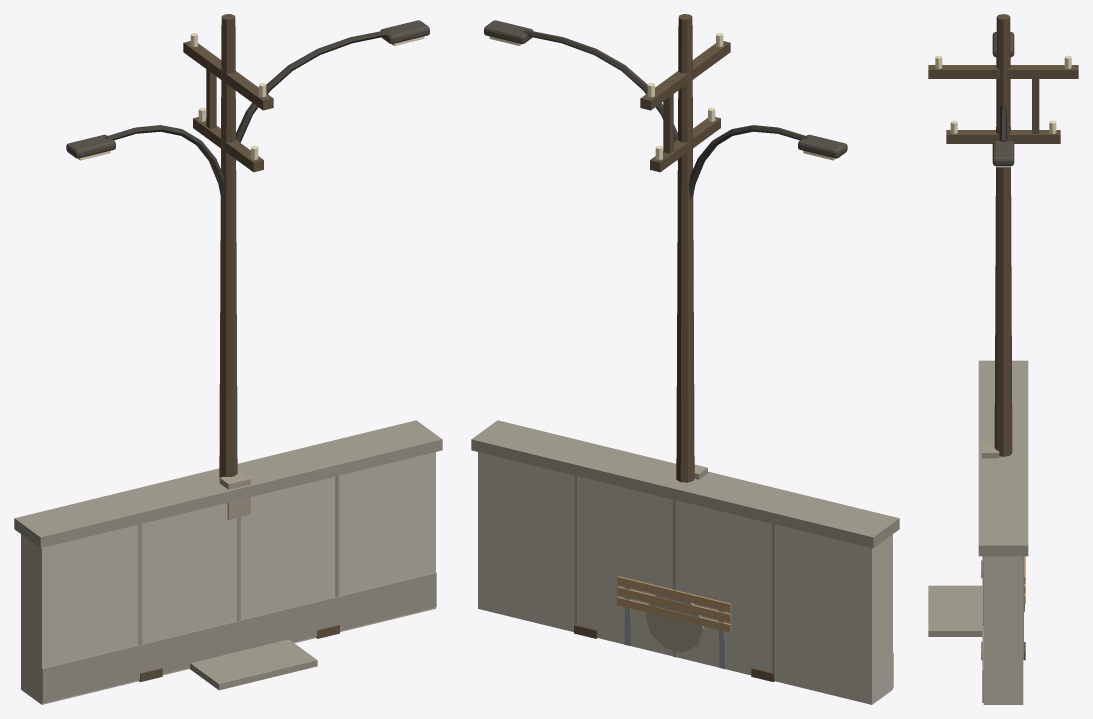
The model's file is props.glb.
3 views of the same model, side by side, from view 1: azimuth 30°, elevation 25°; view 2: azimuth 150°, elevation 25°; view 3: azimuth 270°, elevation 25° (orthographic). The views are drawn at different scales.
Visible parts, largest first — view 1: RetainWall, UtilityPole, Streetlight, Culvert; view 2: RetainWall, UtilityPole, Streetlight, Bench, Culvert; view 3: RetainWall, UtilityPole, Culvert, Streetlight.
Part boxes in pixels (x1,y1,x2,y2): RetainWall: (14, 420, 442, 704); UtilityPole: (183, 14, 273, 519); Streetlight: (66, 20, 429, 199); Culvert: (189, 639, 317, 690); RetainWall: (471, 420, 899, 704); UtilityPole: (640, 14, 730, 482); Streetlight: (484, 20, 847, 199); Bench: (617, 576, 731, 669); Culvert: (645, 594, 703, 652); RetainWall: (978, 360, 1028, 704); UtilityPole: (928, 14, 1078, 458); Culvert: (928, 585, 1024, 636); Streetlight: (992, 32, 1014, 167).
Bounding box in the file's own units: 6.12 × 9.2 × 2.1.
